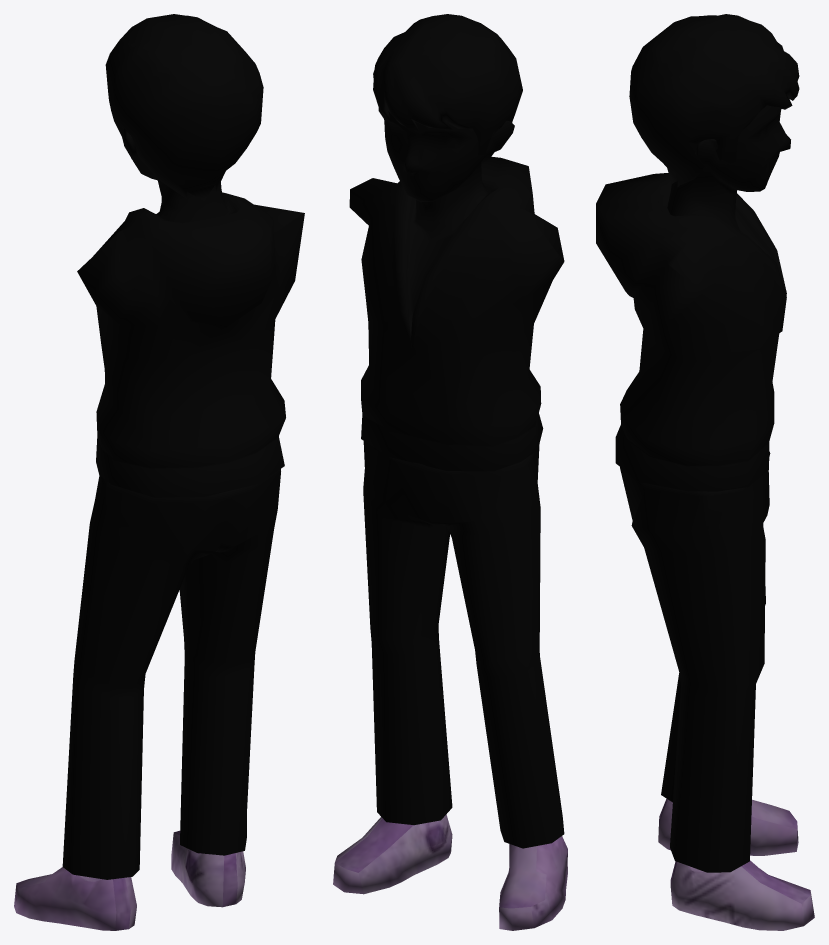
Rendered from entity27902.gltf.
3 renders of one model, left to right at view 1: azimuth 30°, elevation 25°; view 2: azimuth 150°, elevation 25°; view 3: azimuth 270°, elevation 25°, orthographic. The views are drawn at different scales.
Visible parts, largest first — view 1: node_Statue_greek_01; view 2: node_Statue_greek_01; view 3: node_Statue_greek_01.
Part boxes in pixels (x1,y1,x2,y2): node_Statue_greek_01: (14,14,304,930); node_Statue_greek_01: (333,14,567,930); node_Statue_greek_01: (596,14,814,930).
Size of what is drawn, in the model's own units: 0.5746 by 1.95 by 0.4402.
